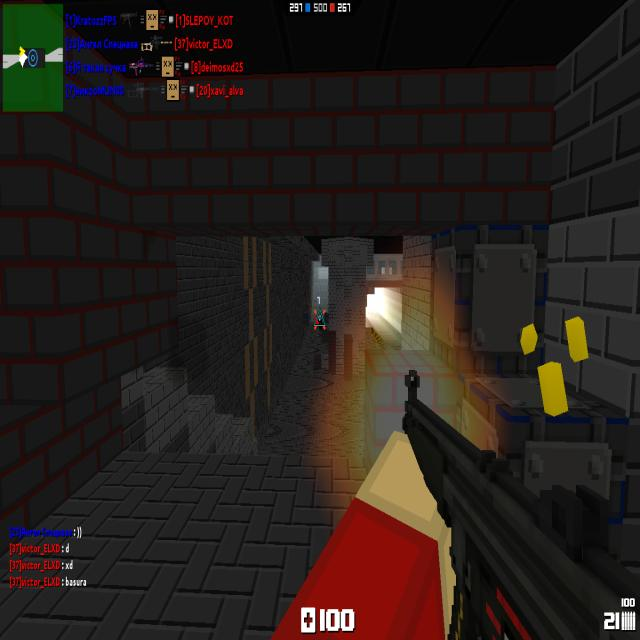enemy: (318, 314, 322, 331)
